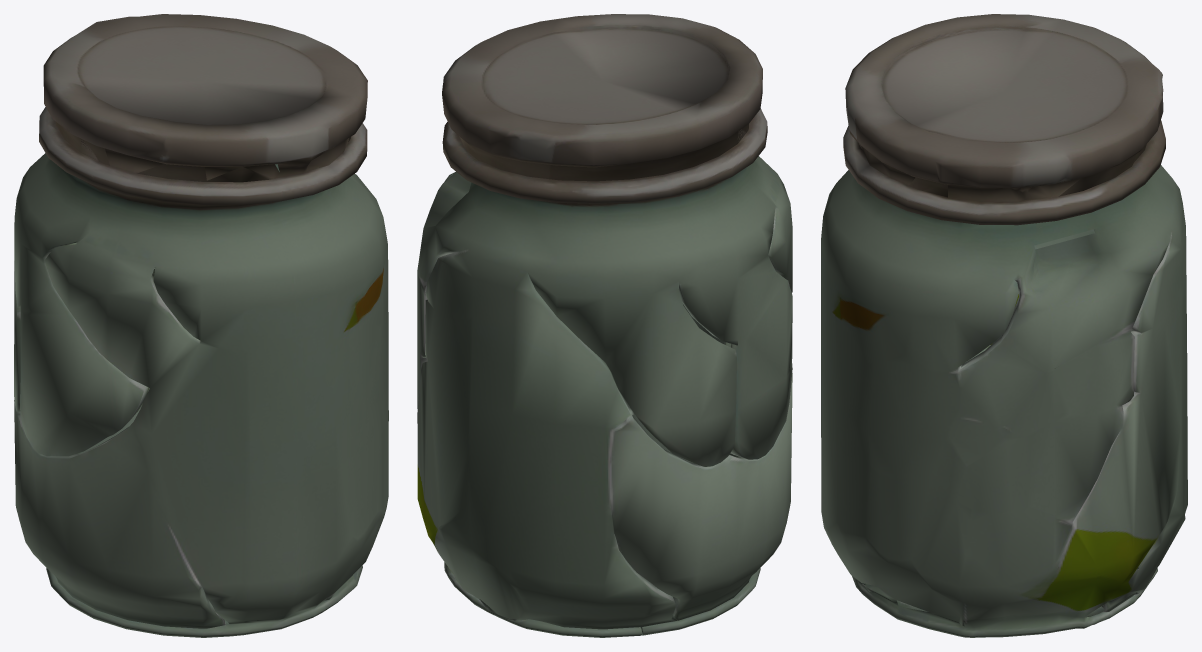
File: jar-rot.glb
3 renders of one model, left to right at view 1: azimuth 30°, elevation 25°; view 2: azimuth 150°, elevation 25°; view 3: azimuth 270°, elevation 25°, orthographic.
Parts seen in each view (by area): view 1: tripo_node_15a69564-21c4-4d4e-a2f5-362ae4602072; view 2: tripo_node_15a69564-21c4-4d4e-a2f5-362ae4602072; view 3: tripo_node_15a69564-21c4-4d4e-a2f5-362ae4602072.
Part boxes in pixels (<box>): tripo_node_15a69564-21c4-4d4e-a2f5-362ae4602072: <box>14,14,388,637</box>; tripo_node_15a69564-21c4-4d4e-a2f5-362ae4602072: <box>417,14,792,637</box>; tripo_node_15a69564-21c4-4d4e-a2f5-362ae4602072: <box>821,14,1187,637</box>.
Bounding box in the file's own units: 0.6675 × 0.9995 × 0.6685.
1 material, 1 textured.
